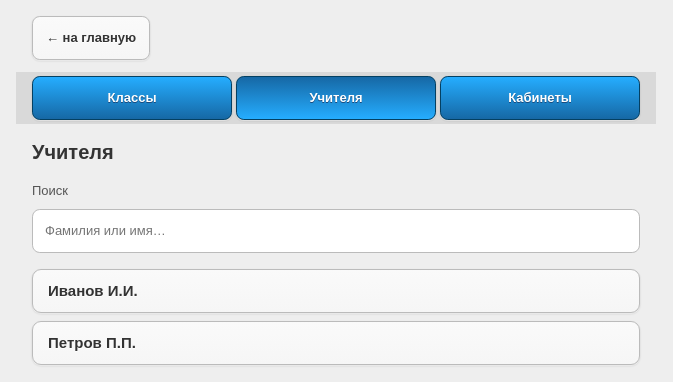
Test: List screen (per-kind rows) › filters the list case-insensitively
Expected: the button "Петров П.П." is shown, [32, 320, 640, 364]
Type "петров" into the search field labelled "Поиск" at (336, 230), box [32, 208, 640, 252]
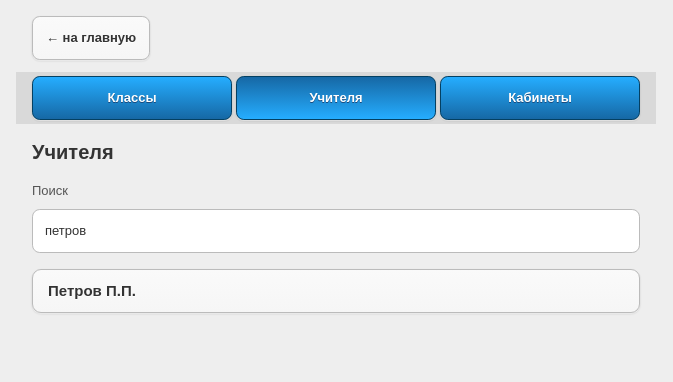
Expected: the button "Иванов И.И." is gone
